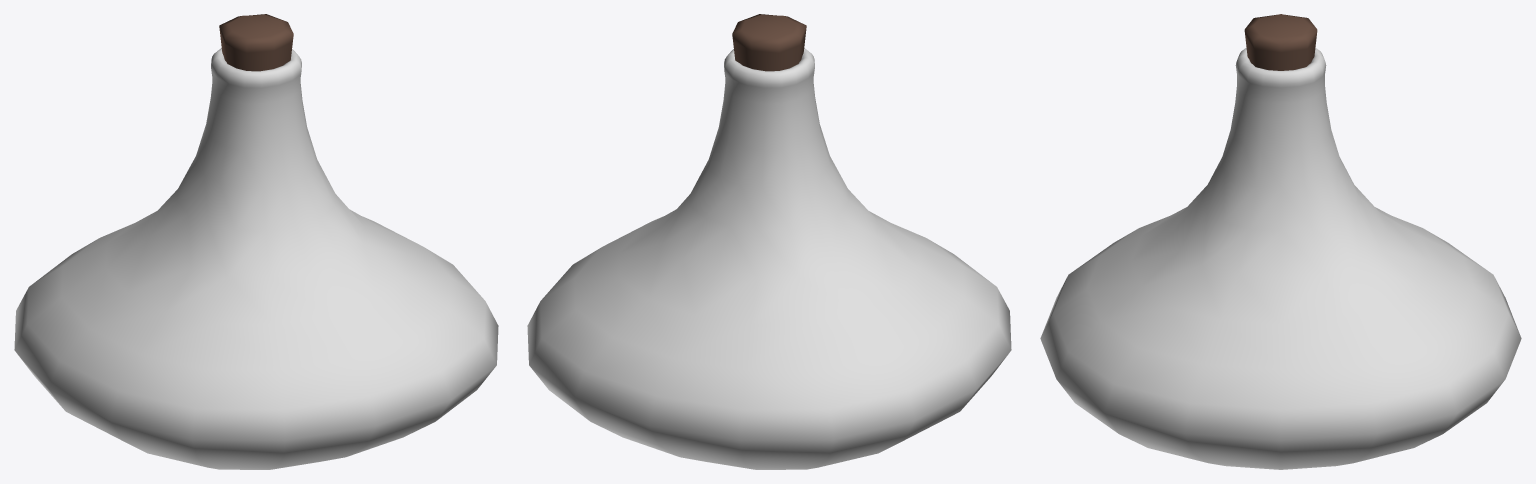
File: Potion8_Empty.glb
3 views of the same model, side by side, from view 1: azimuth 30°, elevation 25°; view 2: azimuth 150°, elevation 25°; view 3: azimuth 270°, elevation 25° (orthographic).
Parts seen in each view (by area): view 1: Potion8_Empty; view 2: Potion8_Empty; view 3: Potion8_Empty.
Boxes of the visible parts, x1,y1,x2,y2 form: Potion8_Empty: (14,14,498,469); Potion8_Empty: (527,14,1011,469); Potion8_Empty: (1040,14,1521,469).
Size of the model in its own units: 0.7035 by 0.6821 by 0.7035.
